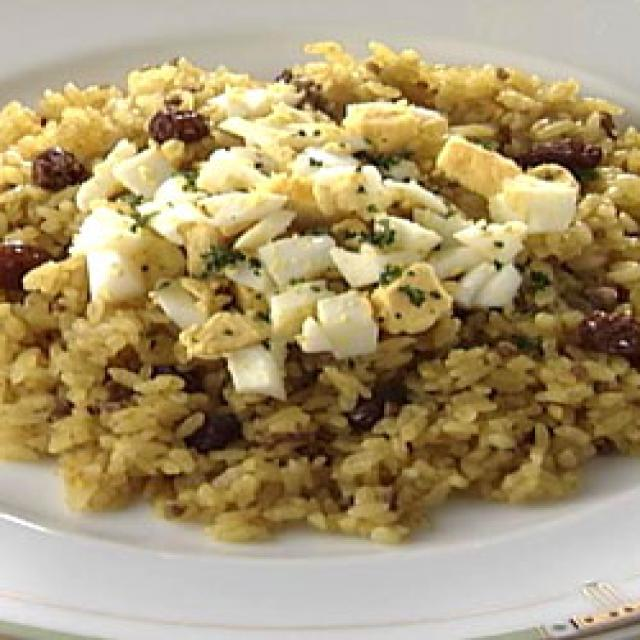米饭主食: (0, 0, 640, 563)
